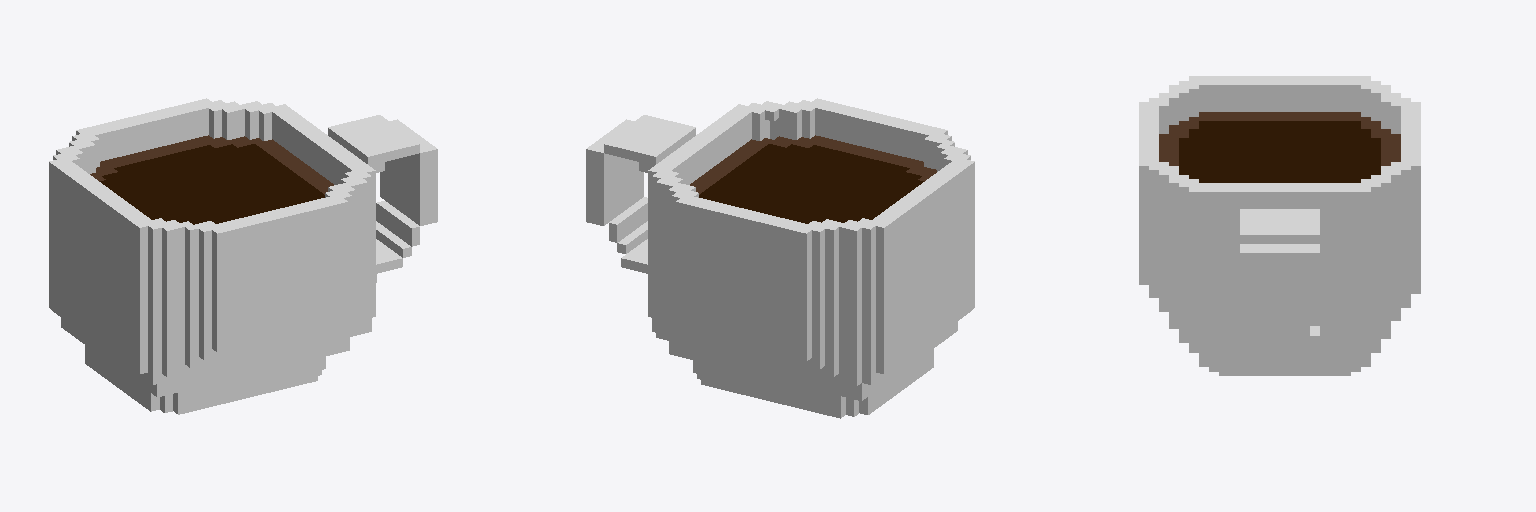
3 views of the same model, side by side, from view 1: azimuth 30°, elevation 25°; view 2: azimuth 150°, elevation 25°; view 3: azimuth 270°, elevation 25° (orthographic).
Visible parts, largest first — view 1: object 1; view 2: object 1; view 3: object 1.
Part boxes in pixels (x1,y1,x2,y2): object 1: (49, 98, 437, 414); object 1: (586, 98, 974, 418); object 1: (1139, 76, 1420, 375).
Size of the model in its own units: 3.7 by 2.2 by 2.8.
1 materials, 1 textured.